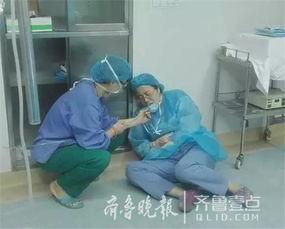bending: (127, 70, 247, 203), (34, 53, 133, 203)
